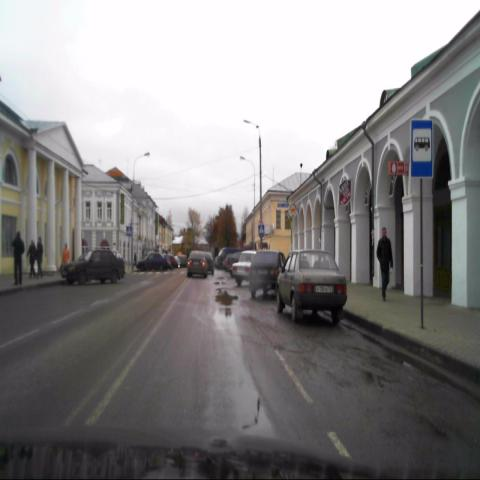5_16: (409, 119, 433, 178)
